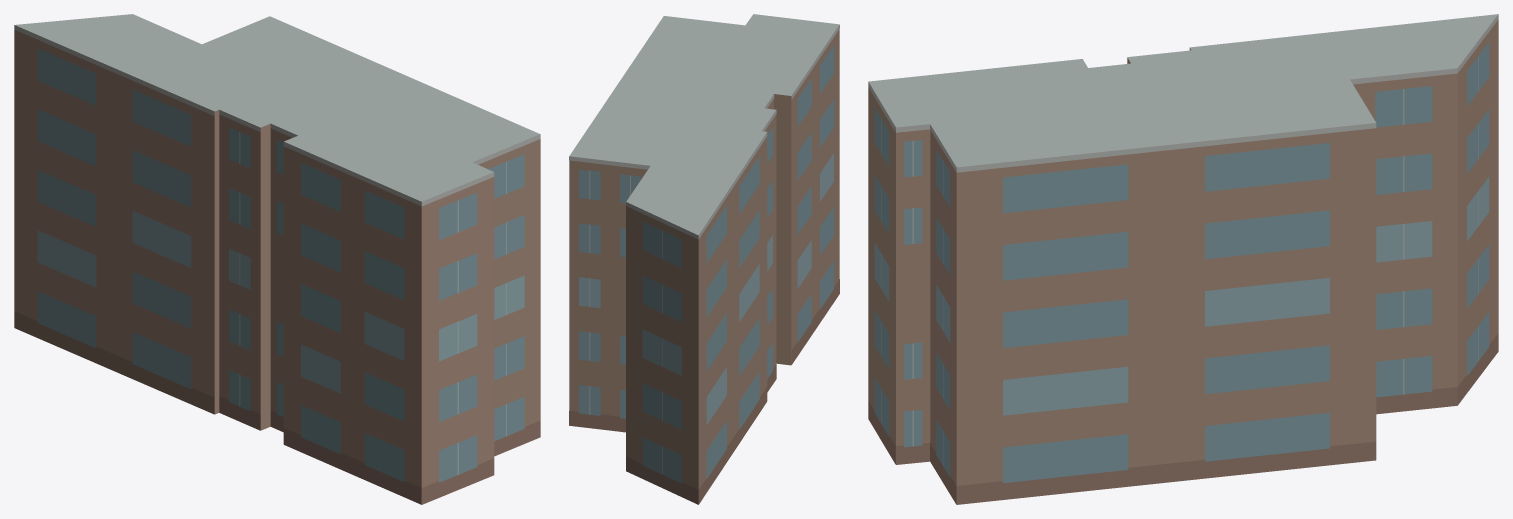
The model's file is survey-upis-32929631.glb.
The picture shows the model from 3 angles, left to right: view 1: azimuth 30°, elevation 25°; view 2: azimuth 150°, elevation 25°; view 3: azimuth 270°, elevation 25°; orthographic projection. The views are drawn at different scales.
Parts seen in each view (by area): view 1: survey-upis-32929631.tmp; view 2: survey-upis-32929631.tmp; view 3: survey-upis-32929631.tmp.
Part boxes in pixels (x1,y1,x2,y2): survey-upis-32929631.tmp: [14, 14, 540, 504]; survey-upis-32929631.tmp: [569, 14, 839, 504]; survey-upis-32929631.tmp: [868, 14, 1498, 504].
Bounding box in the file's own units: 15.43 × 15.8 × 26.76.
